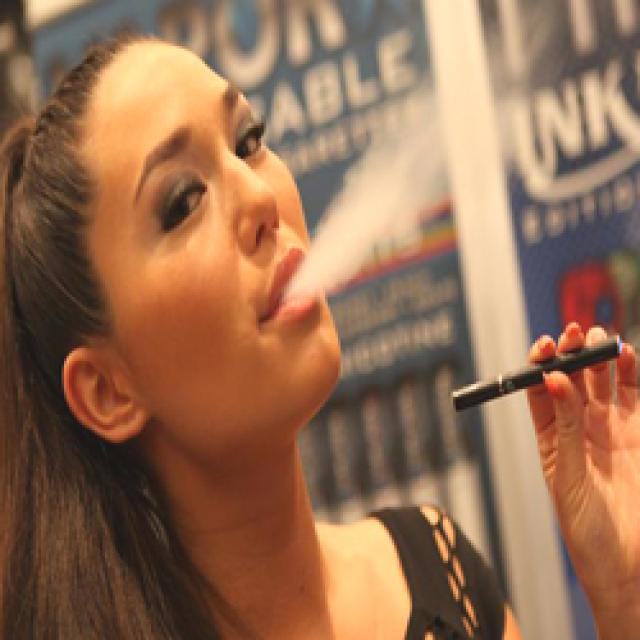Smooking: (441, 330, 627, 418)
